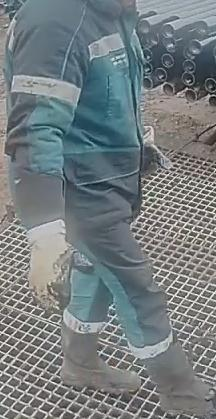gloves: (24, 219, 98, 314)
vest: (2, 1, 147, 211)
